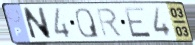4: (152, 6, 173, 39), (53, 6, 72, 40)
E: (122, 6, 153, 39)
N: (21, 6, 54, 41)
Q: (74, 7, 101, 40)
R: (94, 6, 124, 39)
